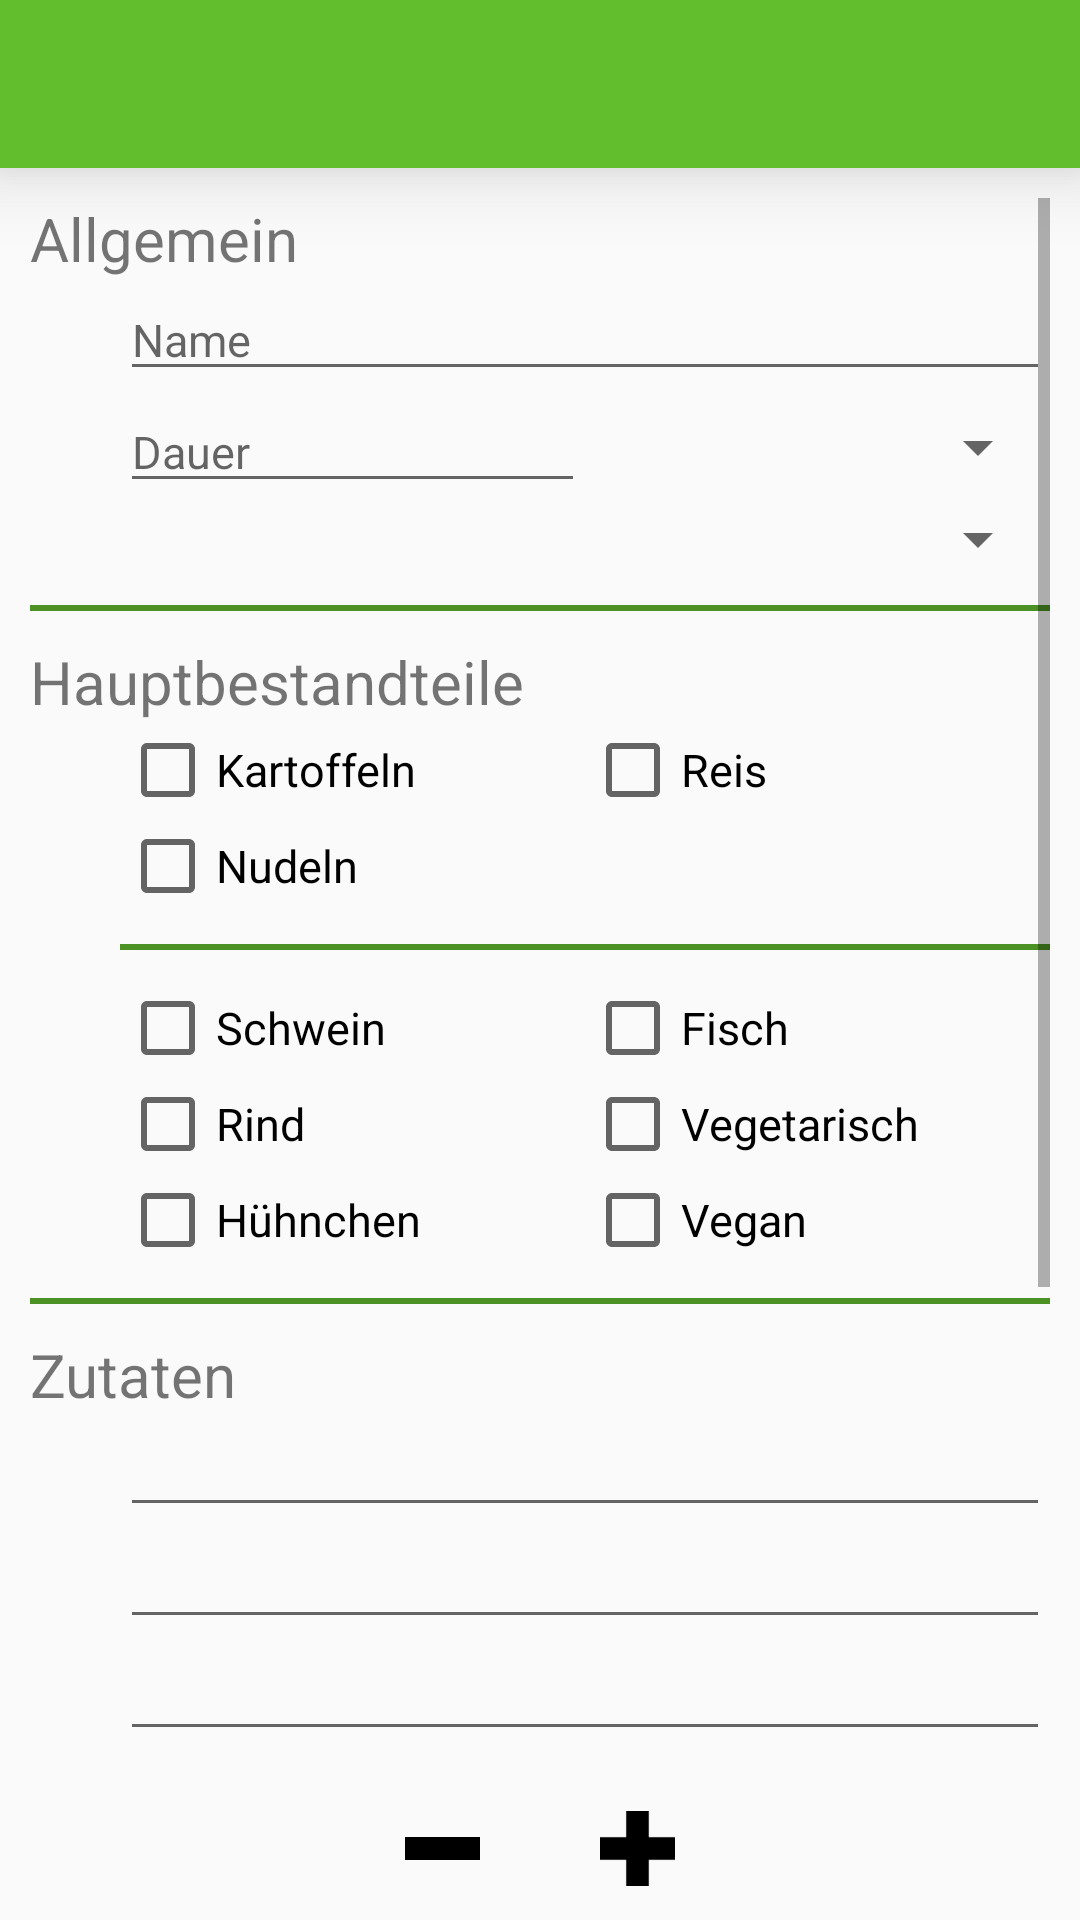

Icon click points for this 1080×1920 phone screenshot, format point (x, y):
plus: point (637, 1848)
